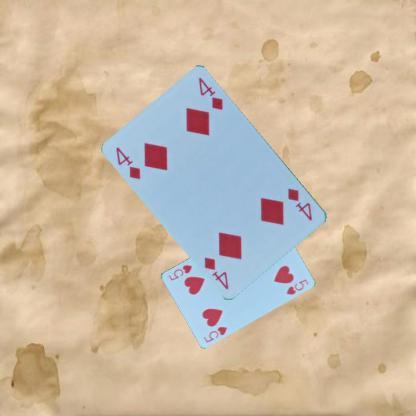4d: (113, 144, 143, 181), (285, 184, 314, 222)
5h: (201, 324, 229, 343)
